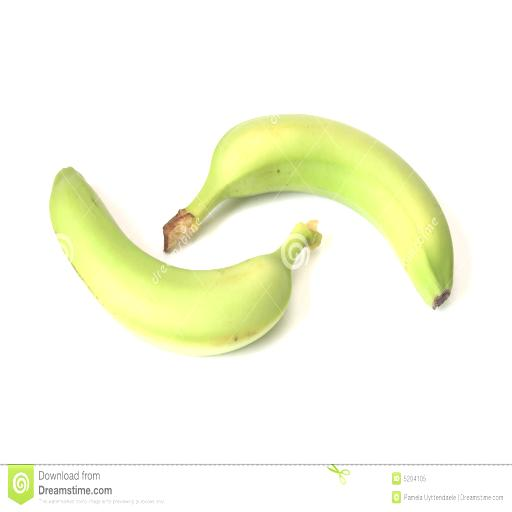banana-unripe: (38, 91, 475, 411)
